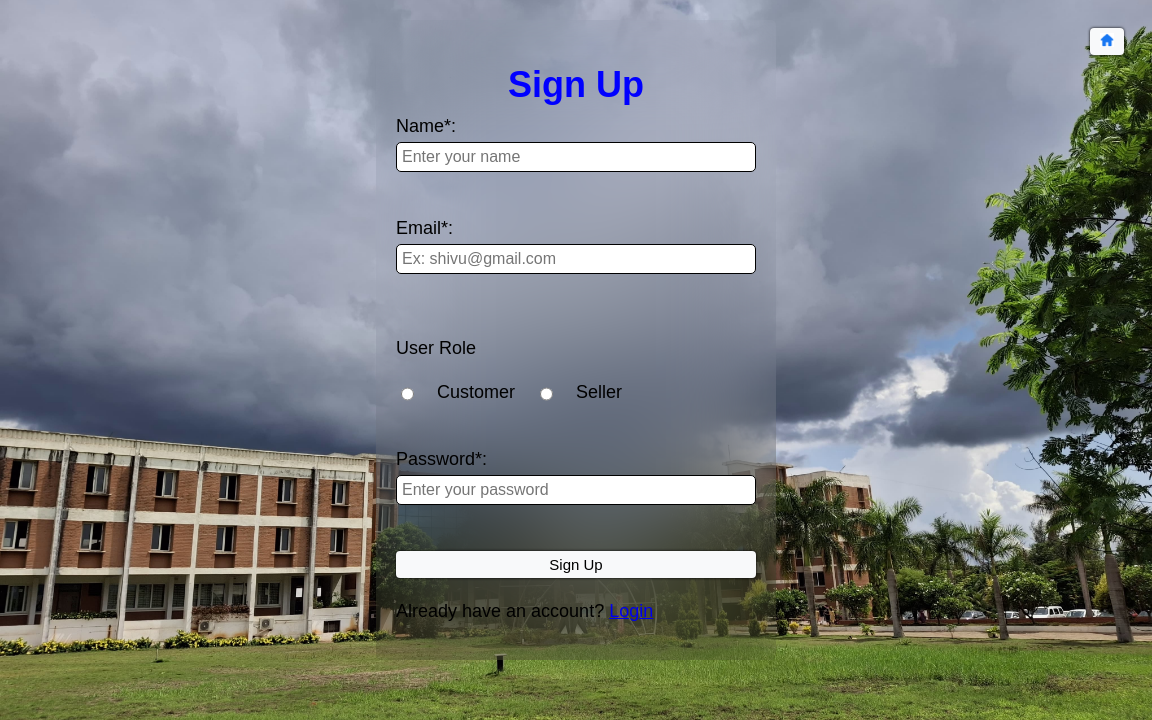
Test: SignUp page › renders signup form and input
Expected: the heading "Sign Up" is shown, [508,64,644,105]
Click the field with placeholder "Enter your name" at (576, 157), box [396,142,756,172]
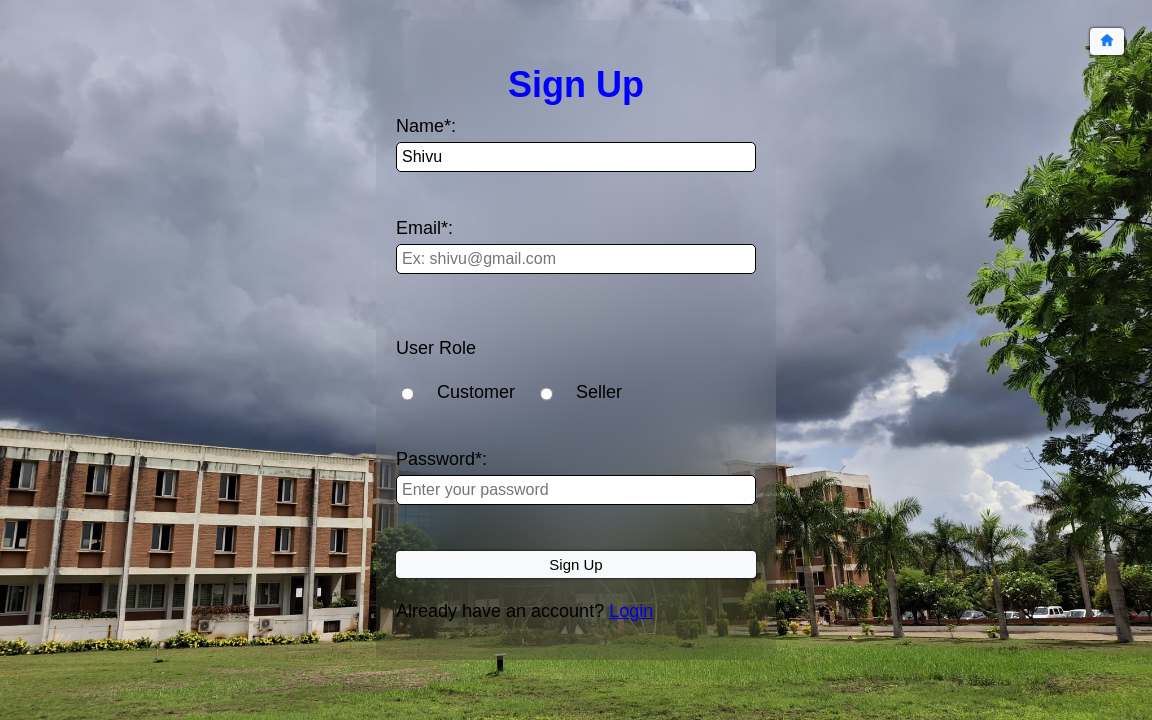
Expected: the field with placeholder "Enter your name" holds "Shivu", [396,142,756,172]
Click the field with placeholder "Ex: shivu@gmail.com" at (576, 259), box [396,244,756,274]
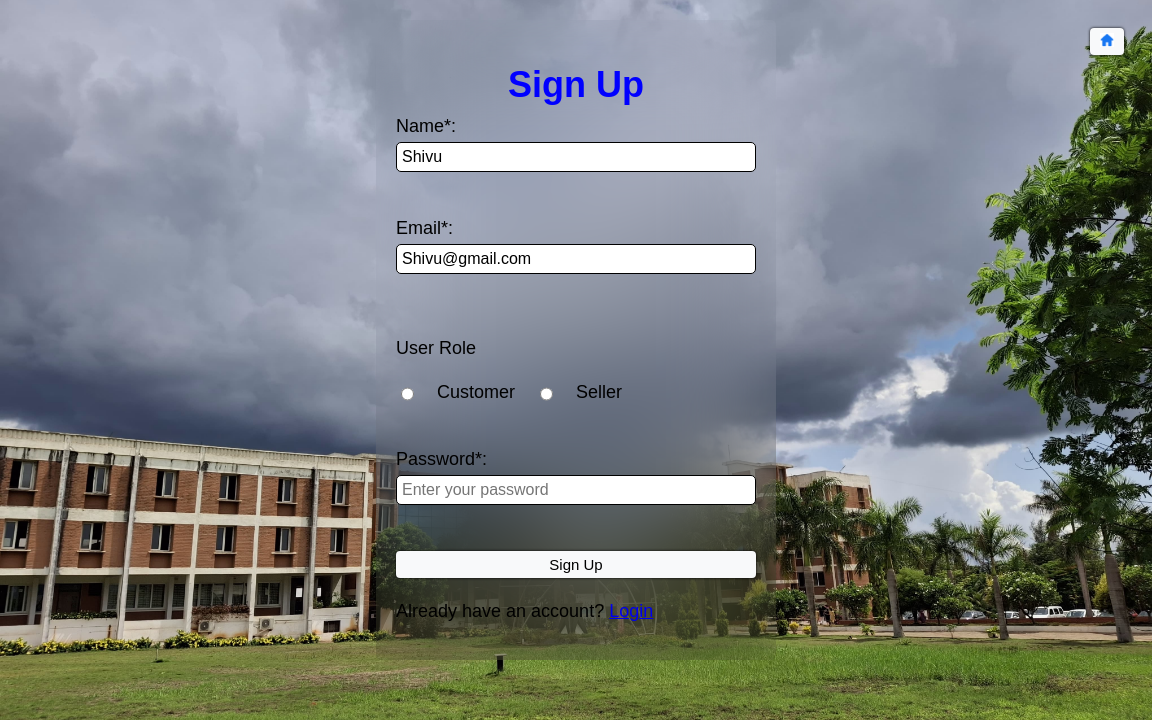
Expected: the field with placeholder "Ex: shivu@gmail.com" holds "Shivu@gmail.com", [396,244,756,274]
Click the radio button labelled "Customer" at (408, 394), box [401,385,414,403]
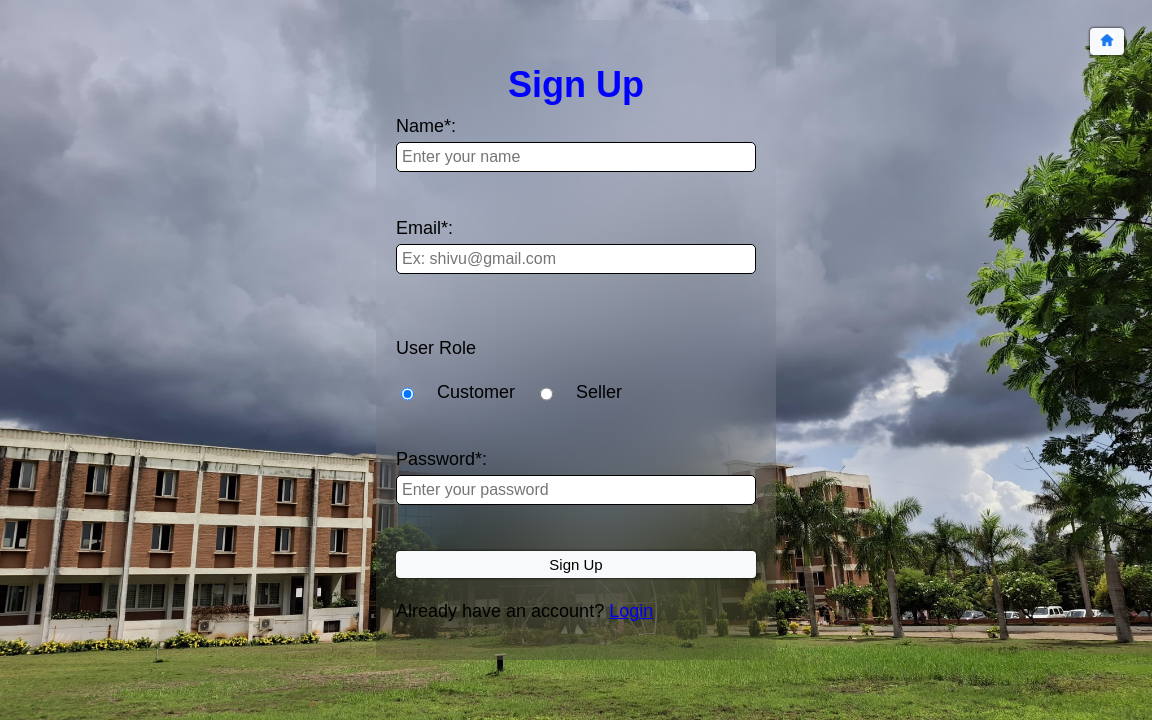
Expected: the radio button labelled "Customer" is checked, [401,385,414,403]
Click the field with placeholder "Enter your password" at (576, 490), box [396,475,756,505]
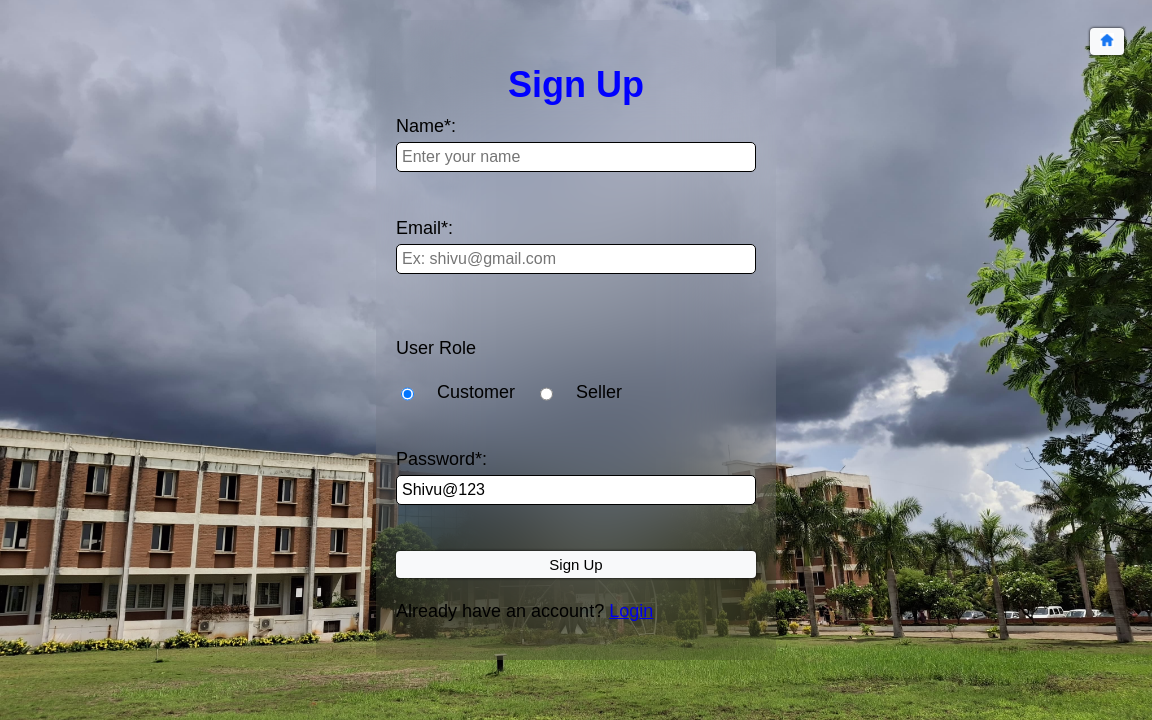
Expected: the field with placeholder "Enter your password" holds "Shivu@123", [396,475,756,505]
